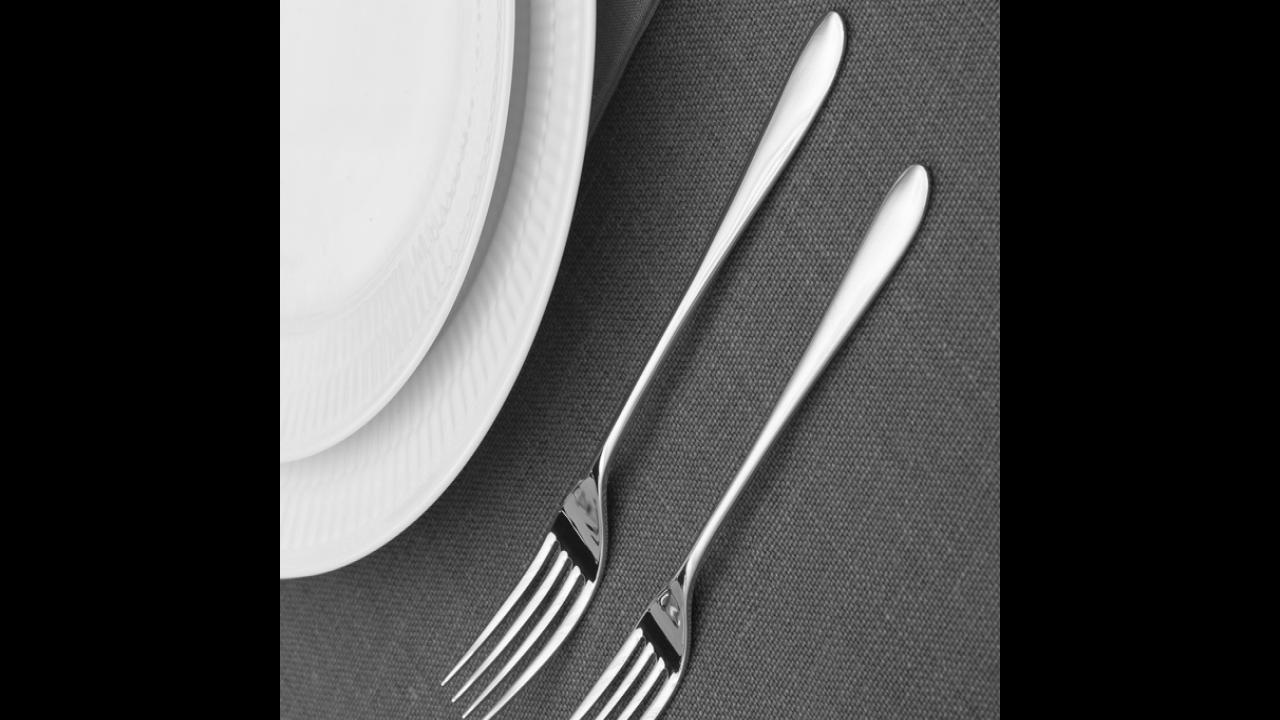fork: (435, 4, 852, 720), (532, 156, 934, 720)
